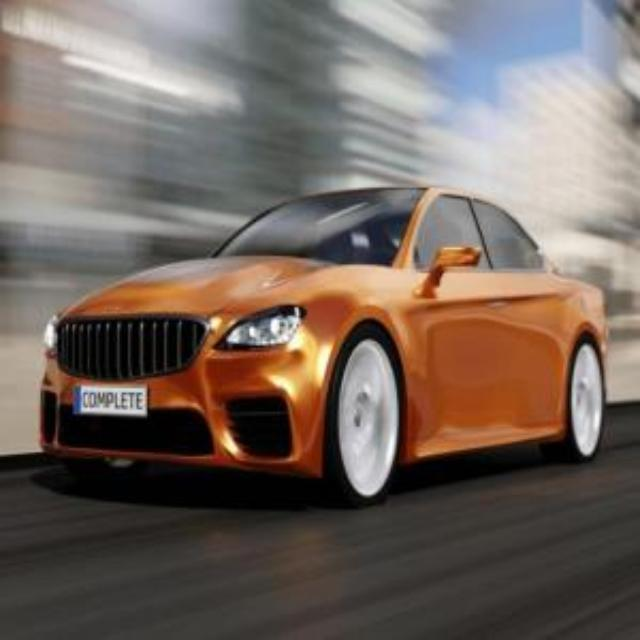License Plate: (74, 386, 147, 417)
